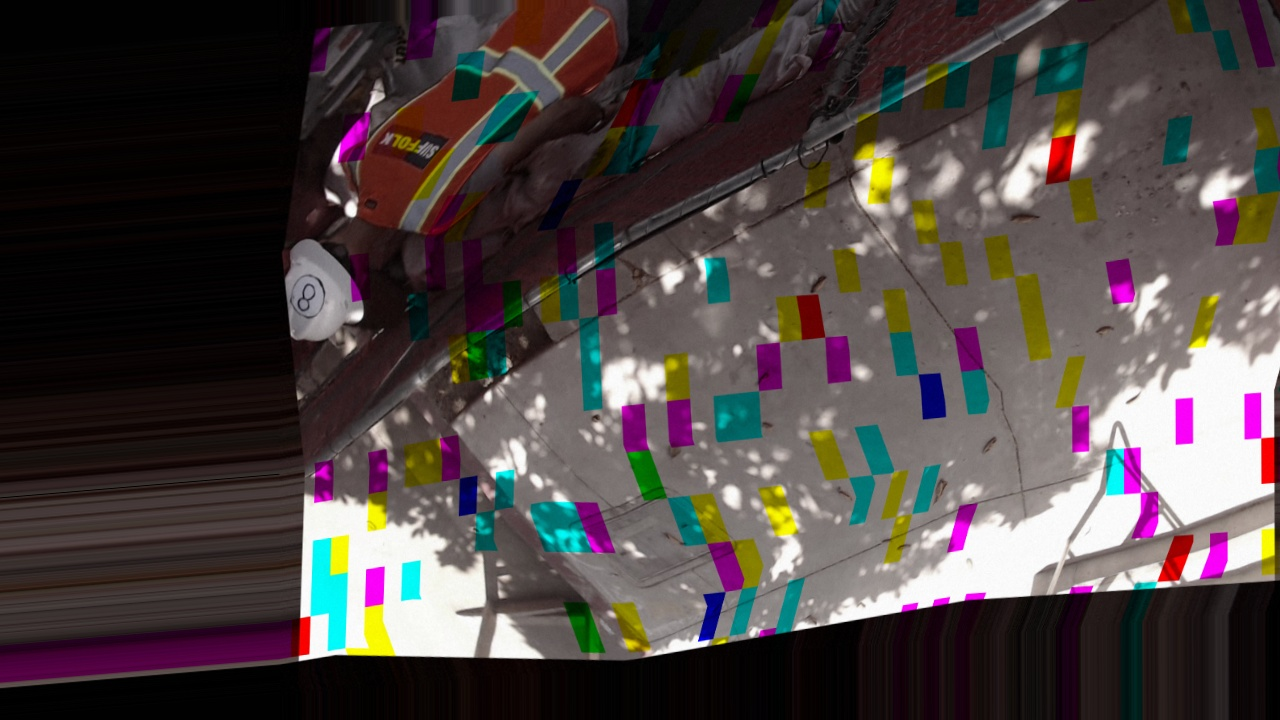hardhat: (285, 230, 366, 361)
person: (309, 0, 667, 274)
safetyvest: (314, 0, 644, 256)
